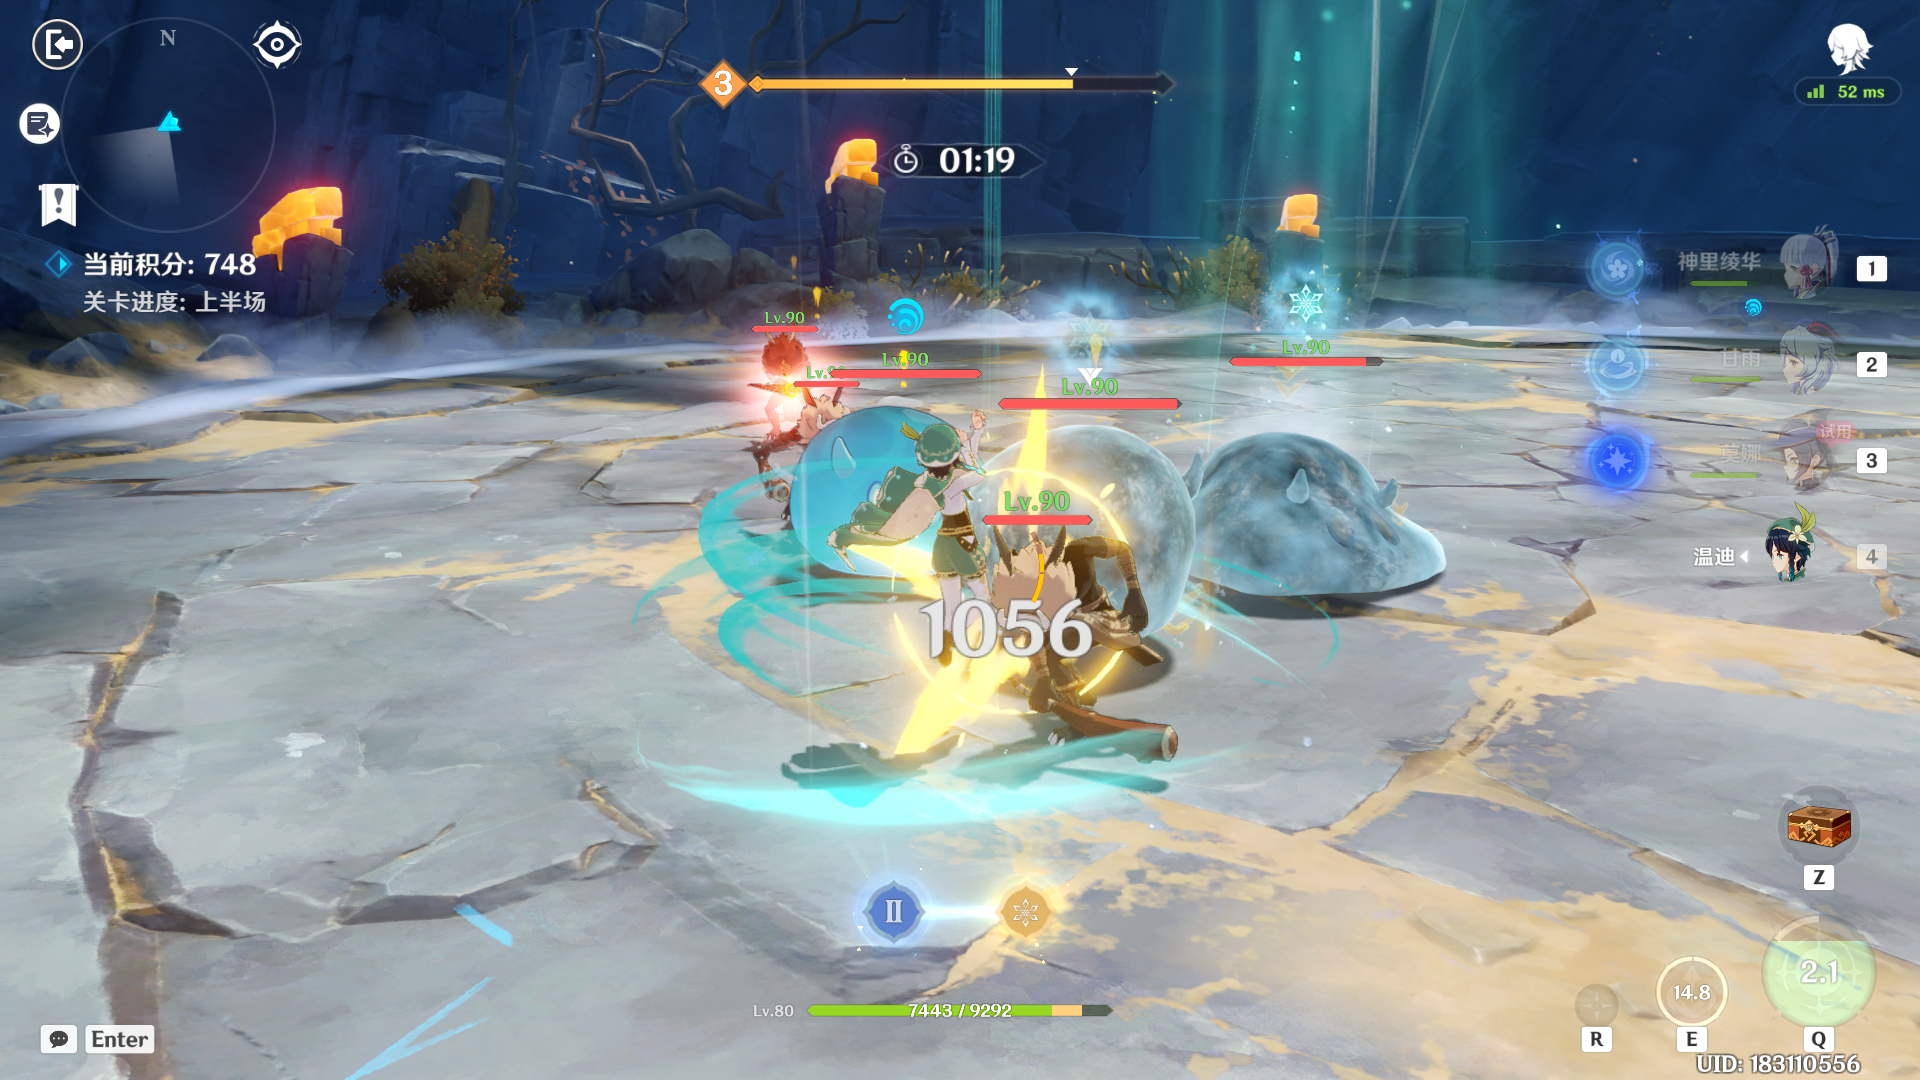character: (847, 419, 1030, 662)
hili: (957, 525, 1218, 782)
slime: (1175, 381, 1465, 657), (789, 388, 984, 588)
